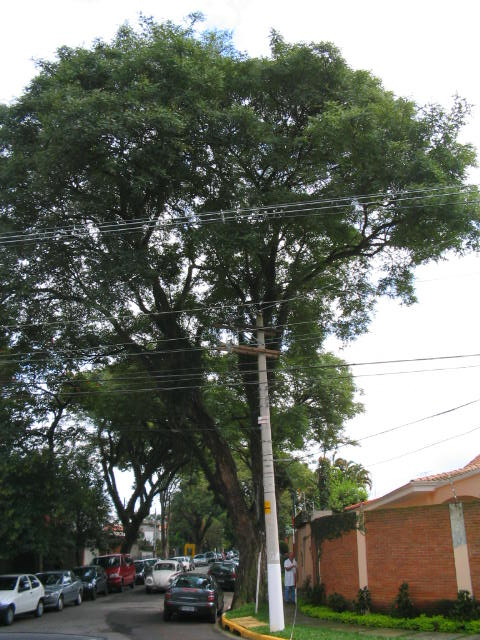crown: (6, 15, 480, 377)
stem: (226, 524, 266, 611)
stick: (286, 516, 303, 603)
tree: (3, 12, 476, 615), (55, 366, 191, 555)
